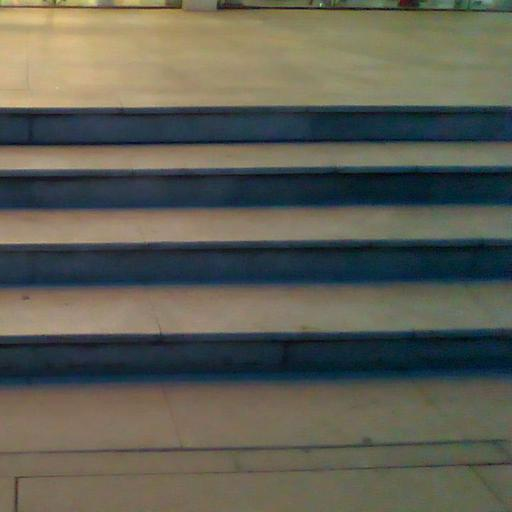stairs: (0, 107, 511, 375)
